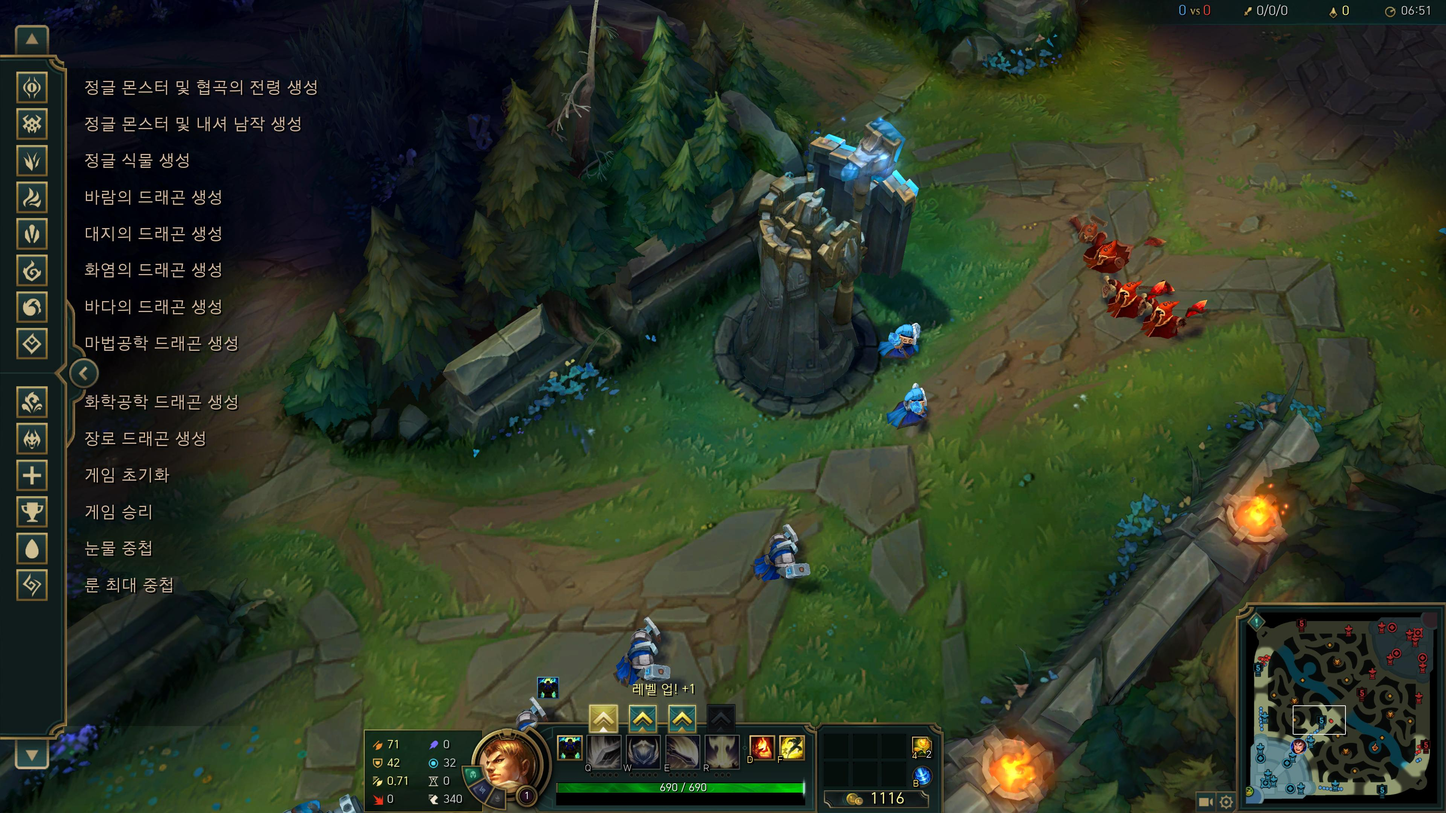ally-caster-minion: (886, 383, 934, 429), (882, 324, 922, 361)
ally-melee-minion: (613, 617, 677, 681), (752, 524, 811, 584)
enemy-caster-minion: (1144, 298, 1210, 340)
